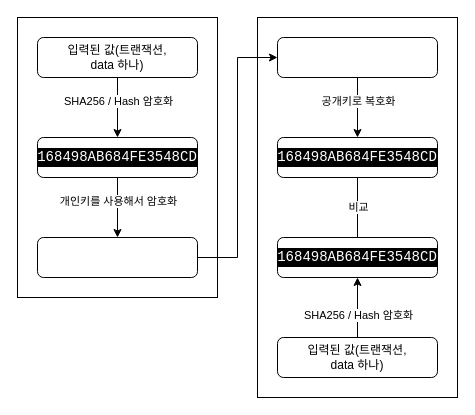
The diagram is 475 pixels wide and 415 high, and some of its shapes have lost their labels. Here are the shapes that lost their labels. From the top down, the box of each, then its label:
(276, 36, 438, 78): Signature / 서명, 공개키
(36, 236, 198, 278): Signature / 서명
